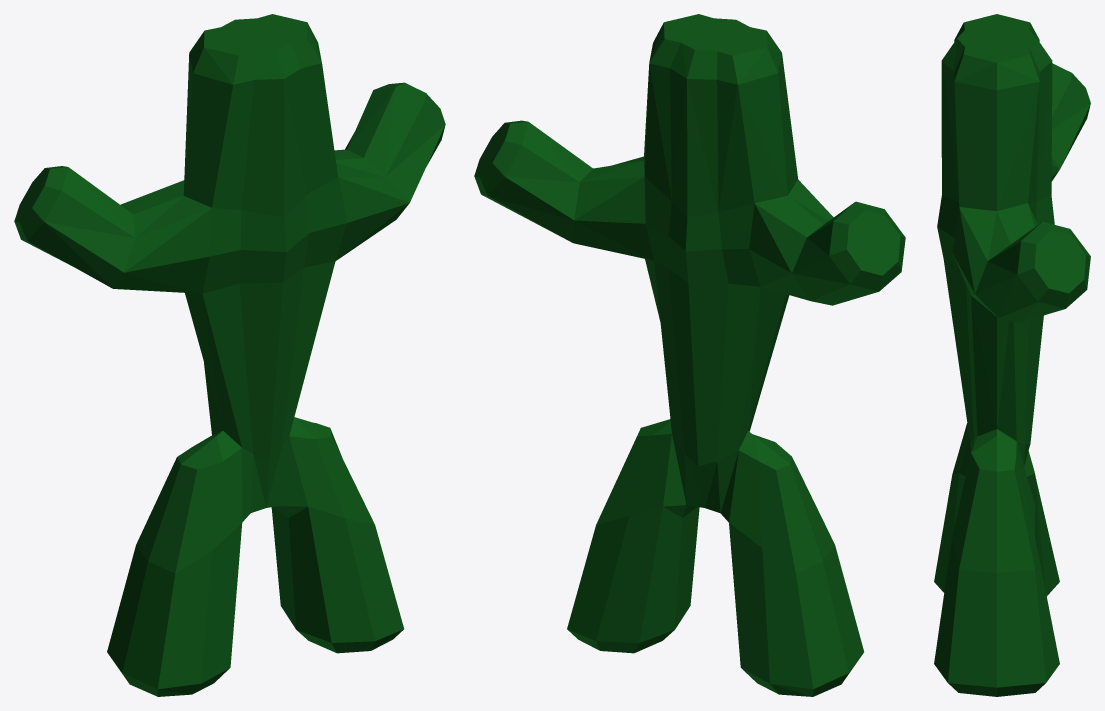
File: kaktus_player_01.gltf
The picture shows the model from 3 angles, left to right: view 1: azimuth 30°, elevation 25°; view 2: azimuth 150°, elevation 25°; view 3: azimuth 270°, elevation 25°; orthographic projection. The views are drawn at different scales.
Parts seen in each view (by area): view 1: Player; view 2: Player; view 3: Player.
Boxes of the visible parts, x1,y1,x2,y2 form: Player: (14, 14, 445, 696); Player: (474, 14, 905, 696); Player: (934, 14, 1090, 696).
Bounding box in the file's own units: 1.38 × 1.95 × 0.4622.
